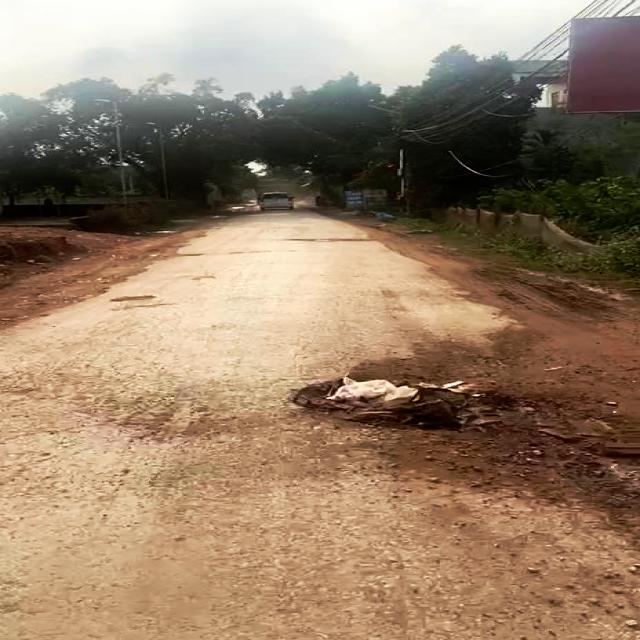pothole: (277, 376, 538, 433)
